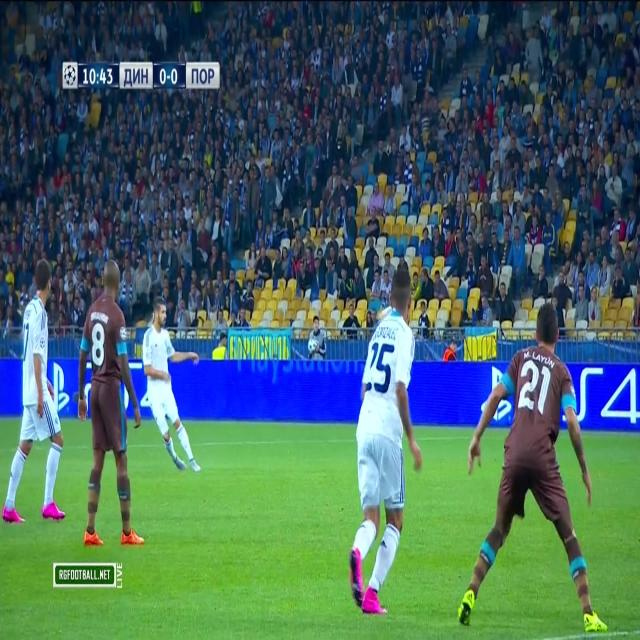Player: (455, 294, 607, 635), (345, 269, 426, 617), (78, 259, 142, 552), (1, 251, 66, 531), (142, 293, 206, 480)
